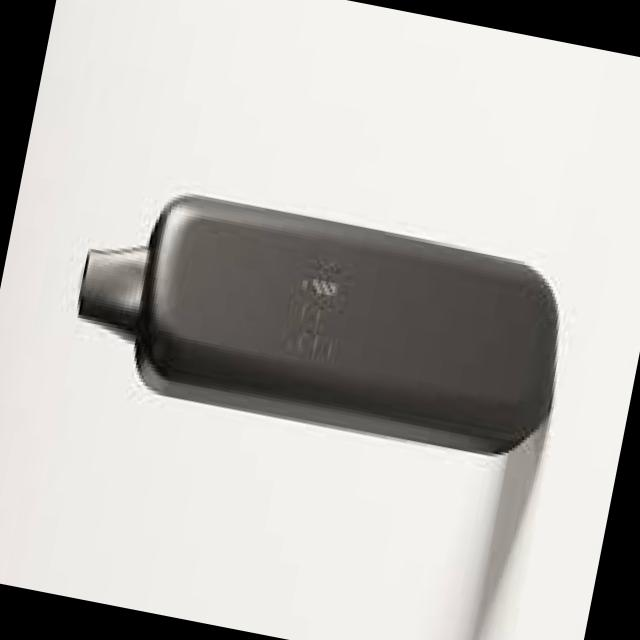portable-charger: (48, 163, 584, 476)
